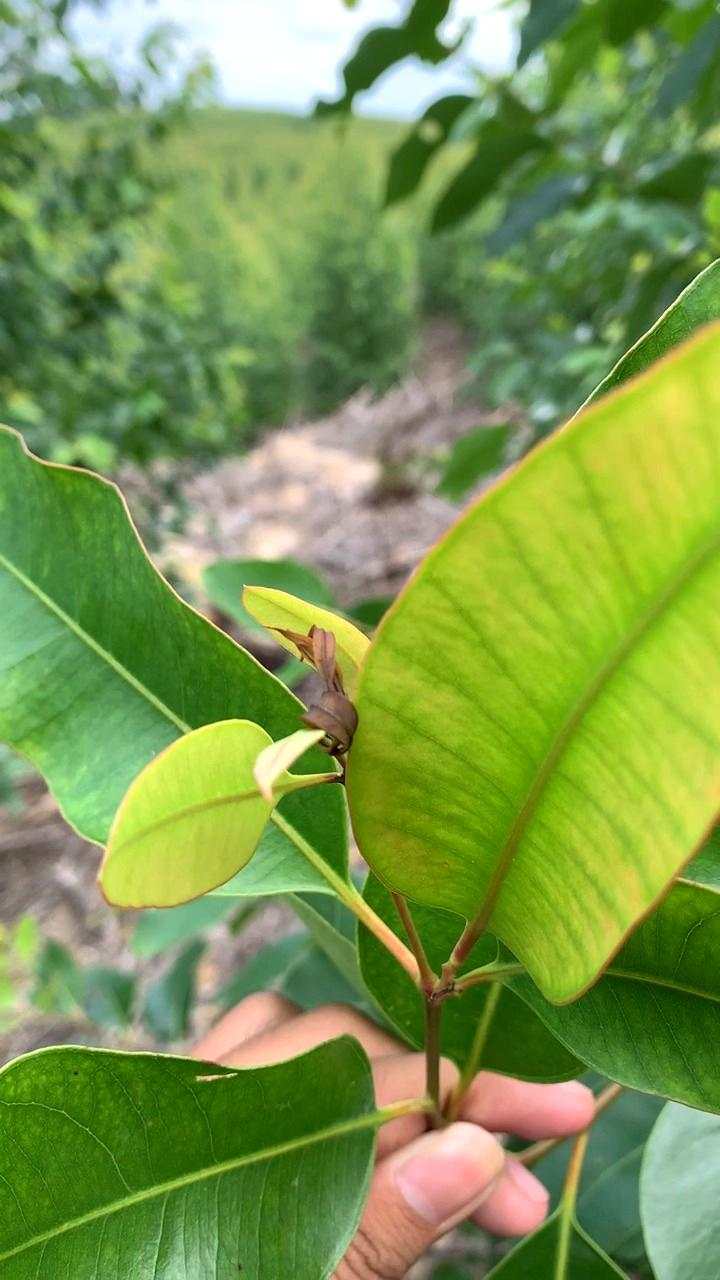Helopeltis-Withered Sprout: (265, 622, 372, 760)
